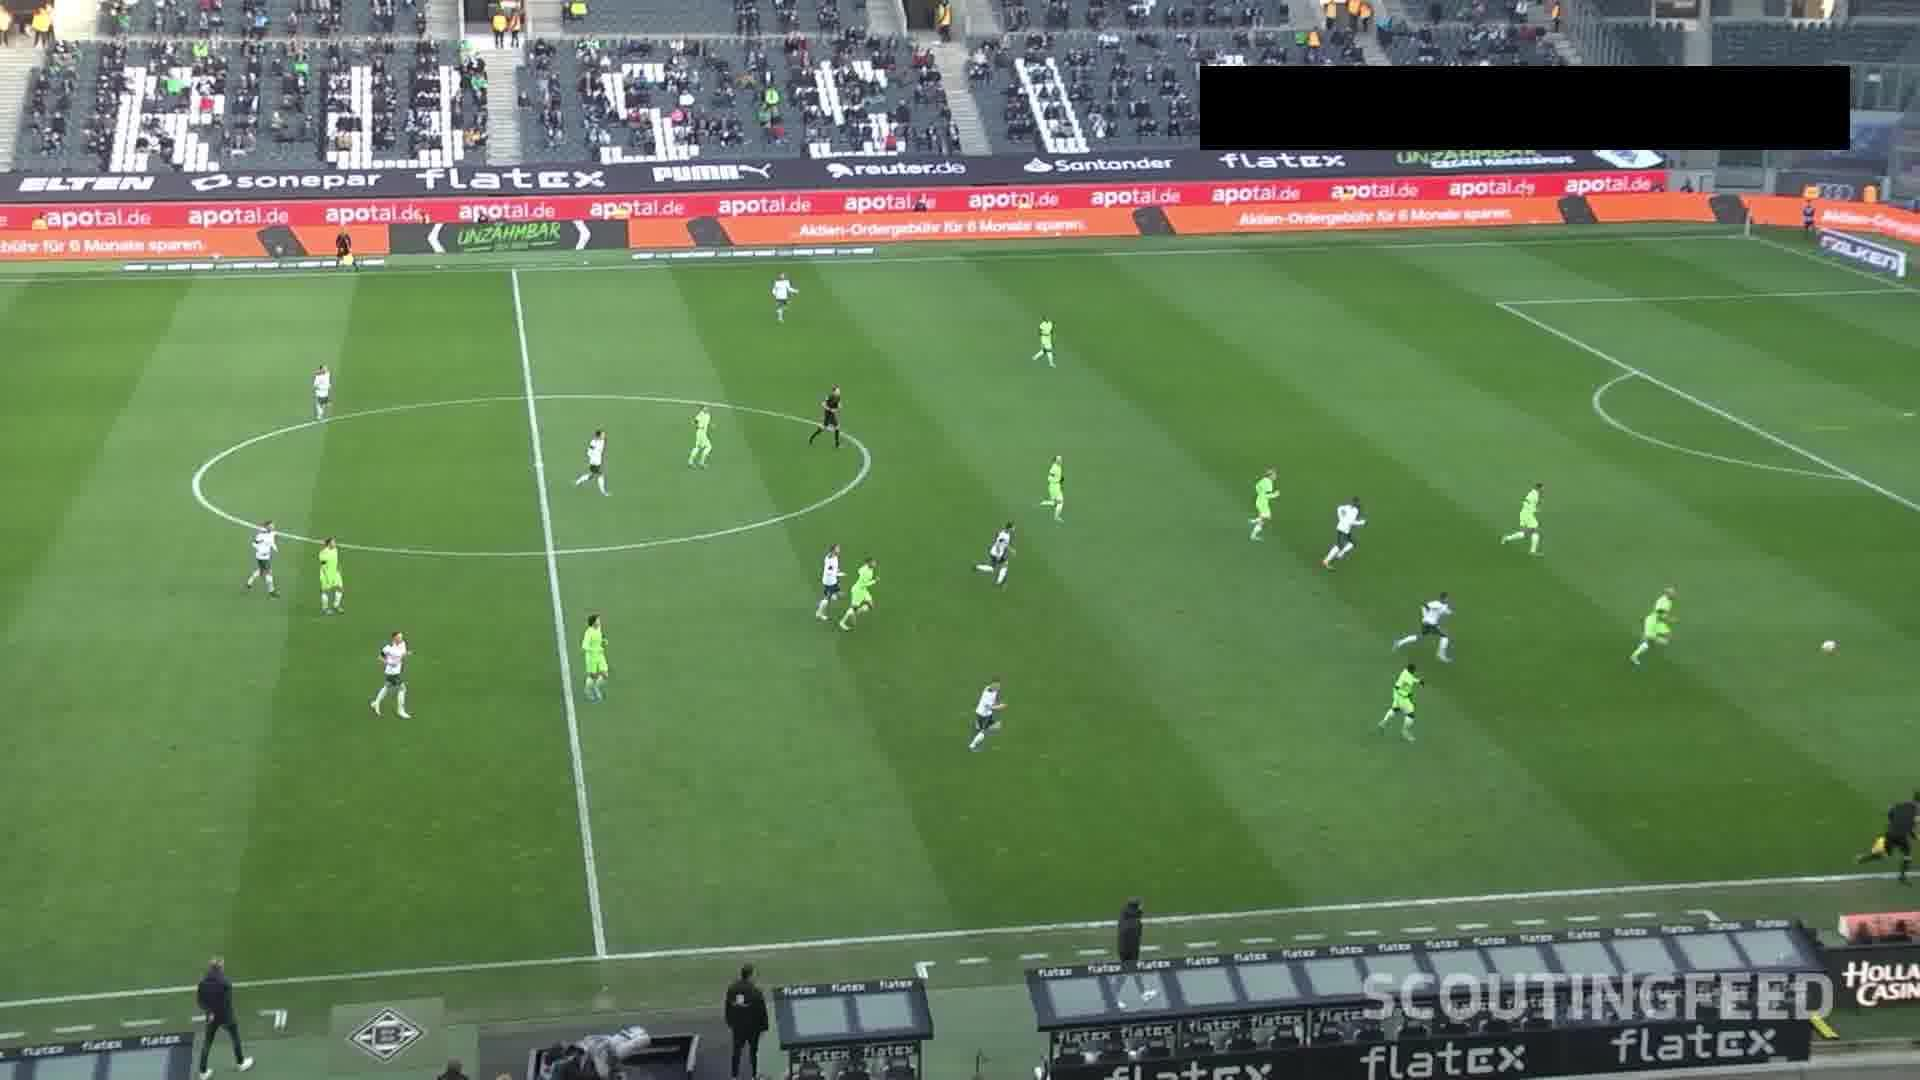football: (1820, 640, 1840, 657)
